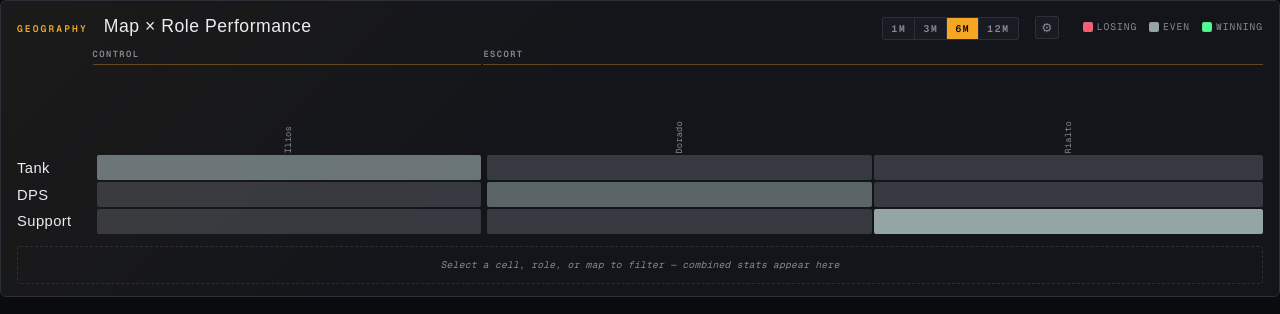
it: MatchMapRoleBand › clicking a game-mode group header selects that group's columns
Click the button with aria-label "Select all Escort maps": (503, 54) [483,48,1263,65]
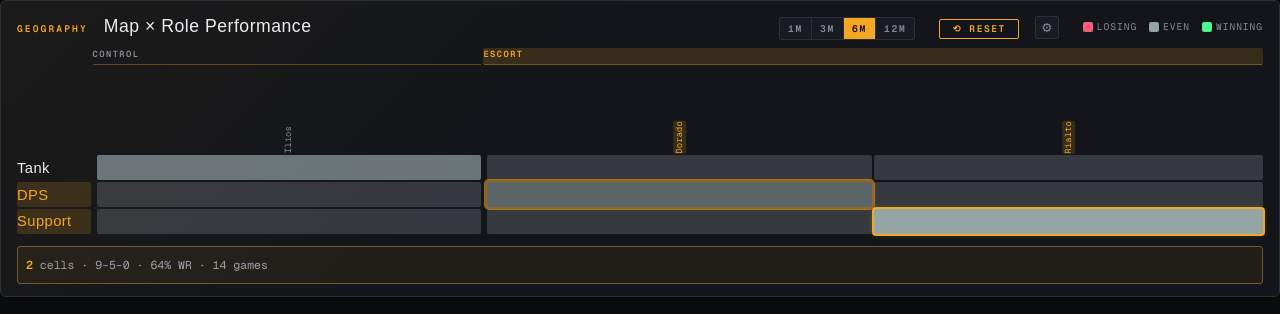
Now the text "combined stats appear here" is gone
